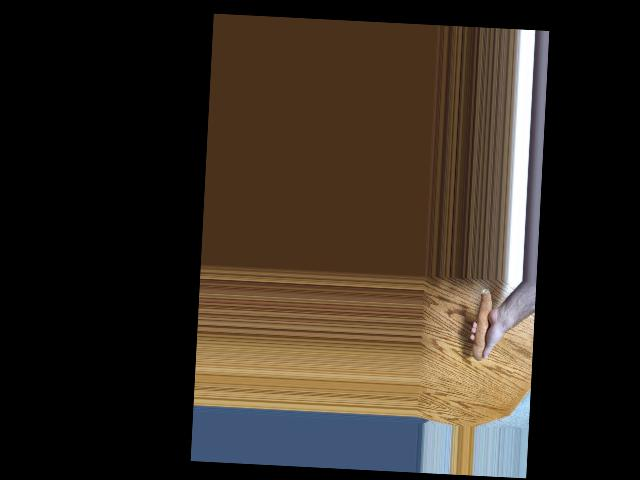sweet_potato: (470, 286, 498, 362)
